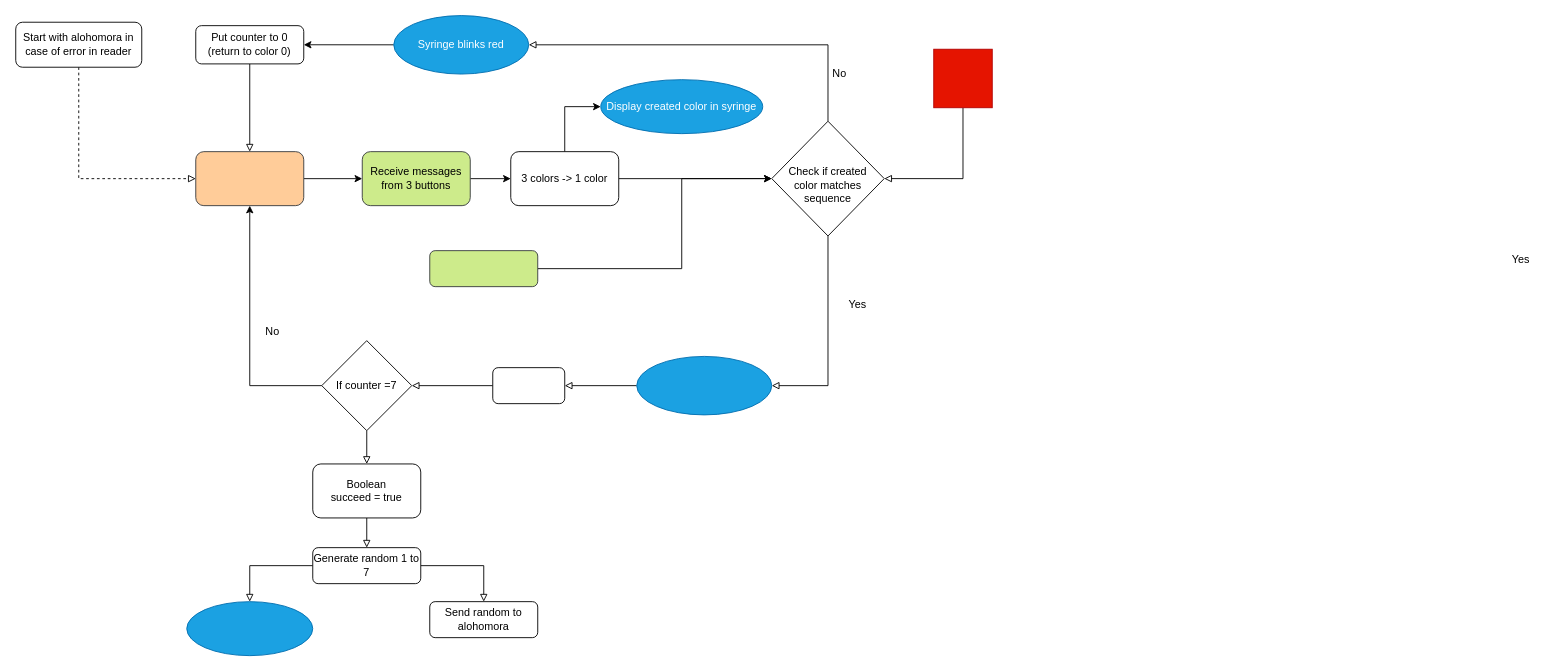
This 1550x672 diagram has some shape labels left out. Here are the shapes that lost their labels. From the top down, the centre of each, then its label:
point 962,78: Pause
point 249,178: Buttons pressed
point 483,268: Receive sequence from other ESP32
point 528,385: Counter +1
point 704,385: Syringe blinks green
point 249,628: Display number by lighting up test tubes
